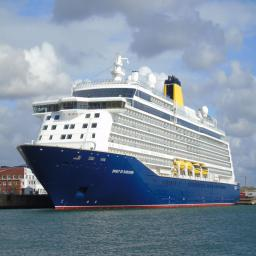cruises: (17, 45, 244, 210)
